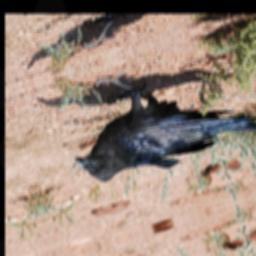Crow: (53, 30, 256, 196)
